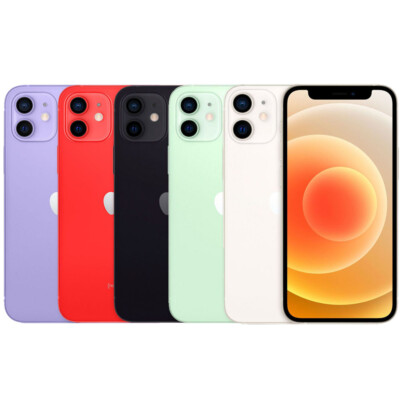-iphone12: (10, 81, 400, 329)
